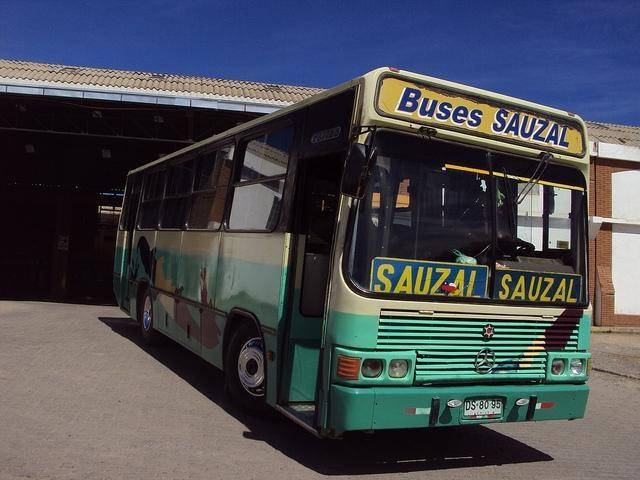bus: (114, 65, 590, 446)
